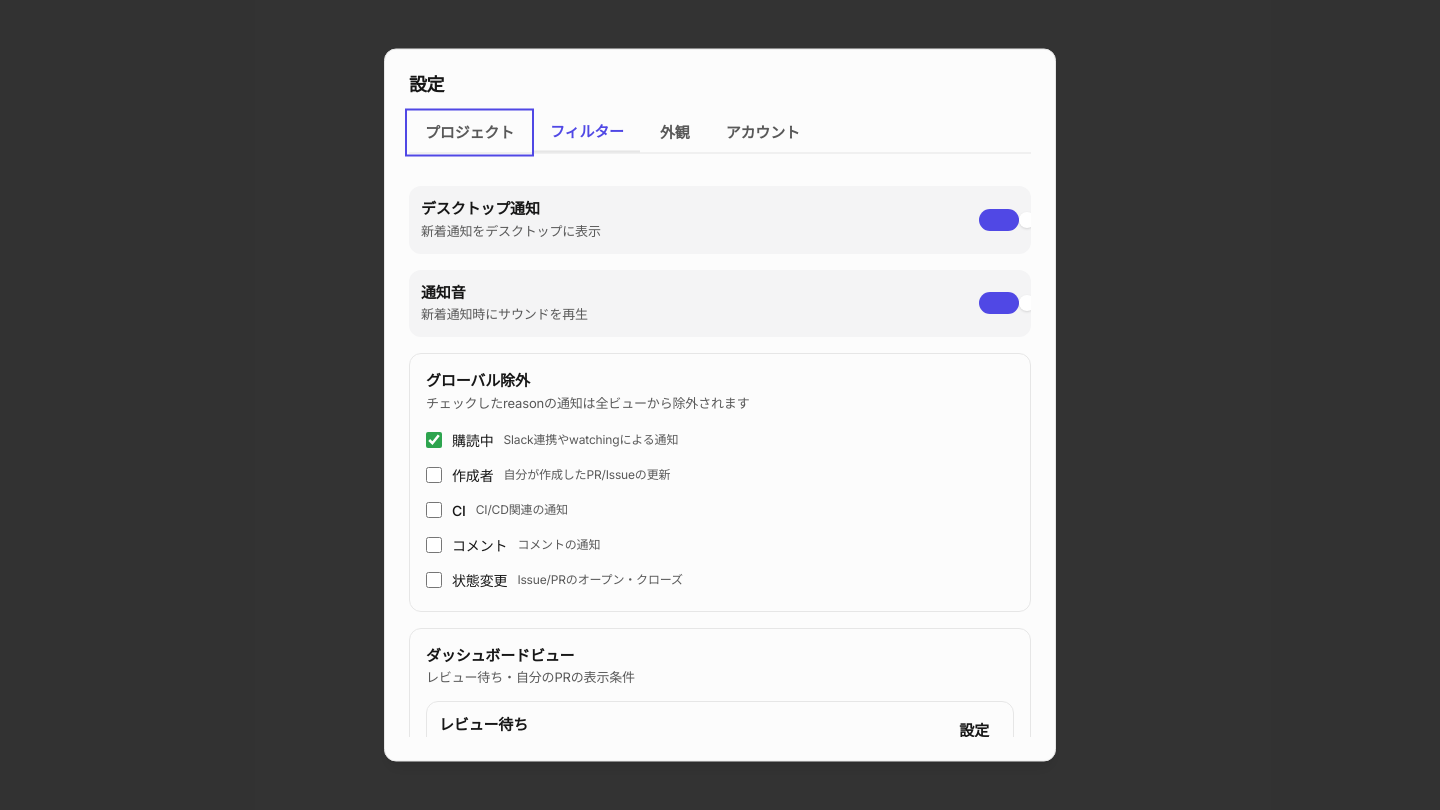
it: IssueStatusRulesEditor › 既存ルールの操作 › 既存ルールのリポジトリパターンが入力欄に表示される
Click the button "設定" at point(974, 731), box [947,713,1001,749]
(page scrolled)
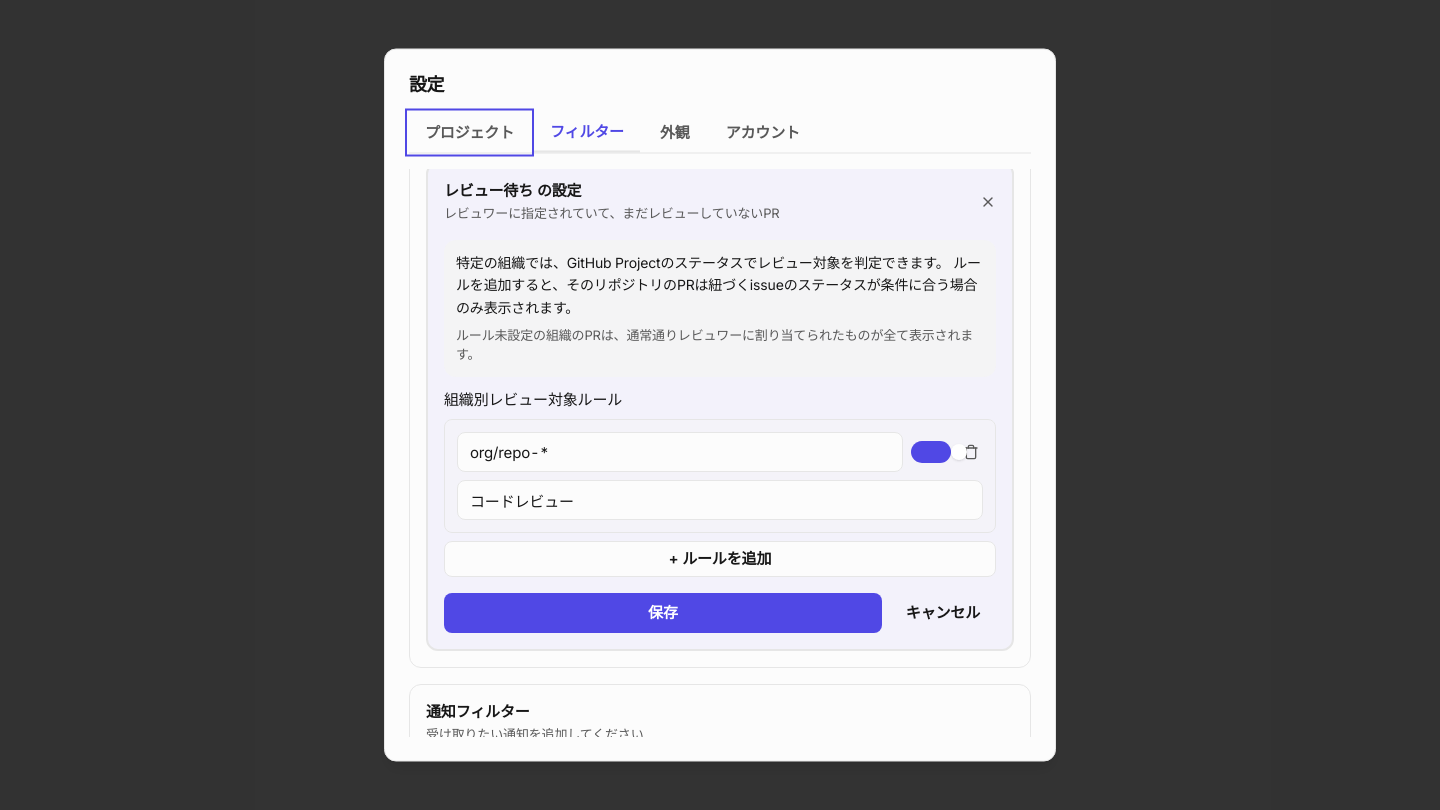
Now the 1st field showing "org/repo-*" is shown, box [457,433,903,473]
